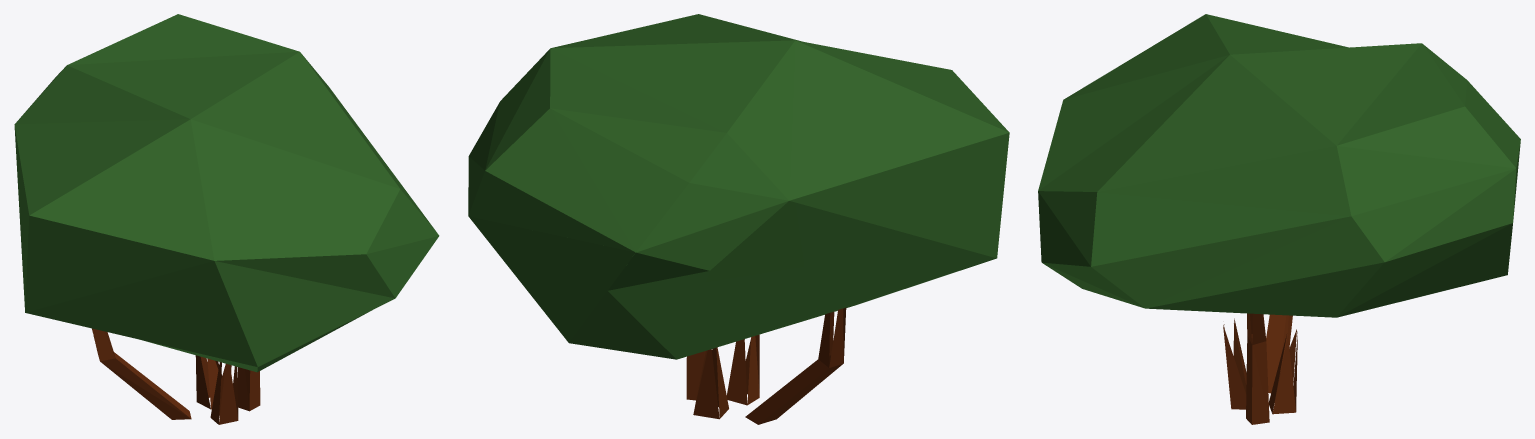
File: Bush4_med.glb
The picture shows the model from 3 angles, left to right: view 1: azimuth 30°, elevation 25°; view 2: azimuth 150°, elevation 25°; view 3: azimuth 270°, elevation 25°; orthographic projection. The views are drawn at different scales.
Visible parts, largest first — view 1: Bush_temp_climate_008; view 2: Bush_temp_climate_008; view 3: Bush_temp_climate_008.
Boxes of the visible parts, x1,y1,x2,y2 form: Bush_temp_climate_008: [14, 14, 439, 424]; Bush_temp_climate_008: [468, 14, 1009, 424]; Bush_temp_climate_008: [1038, 14, 1520, 424].
Size of the model in its own units: 1.04 by 0.8223 by 1.09.
1 material, 1 textured.
